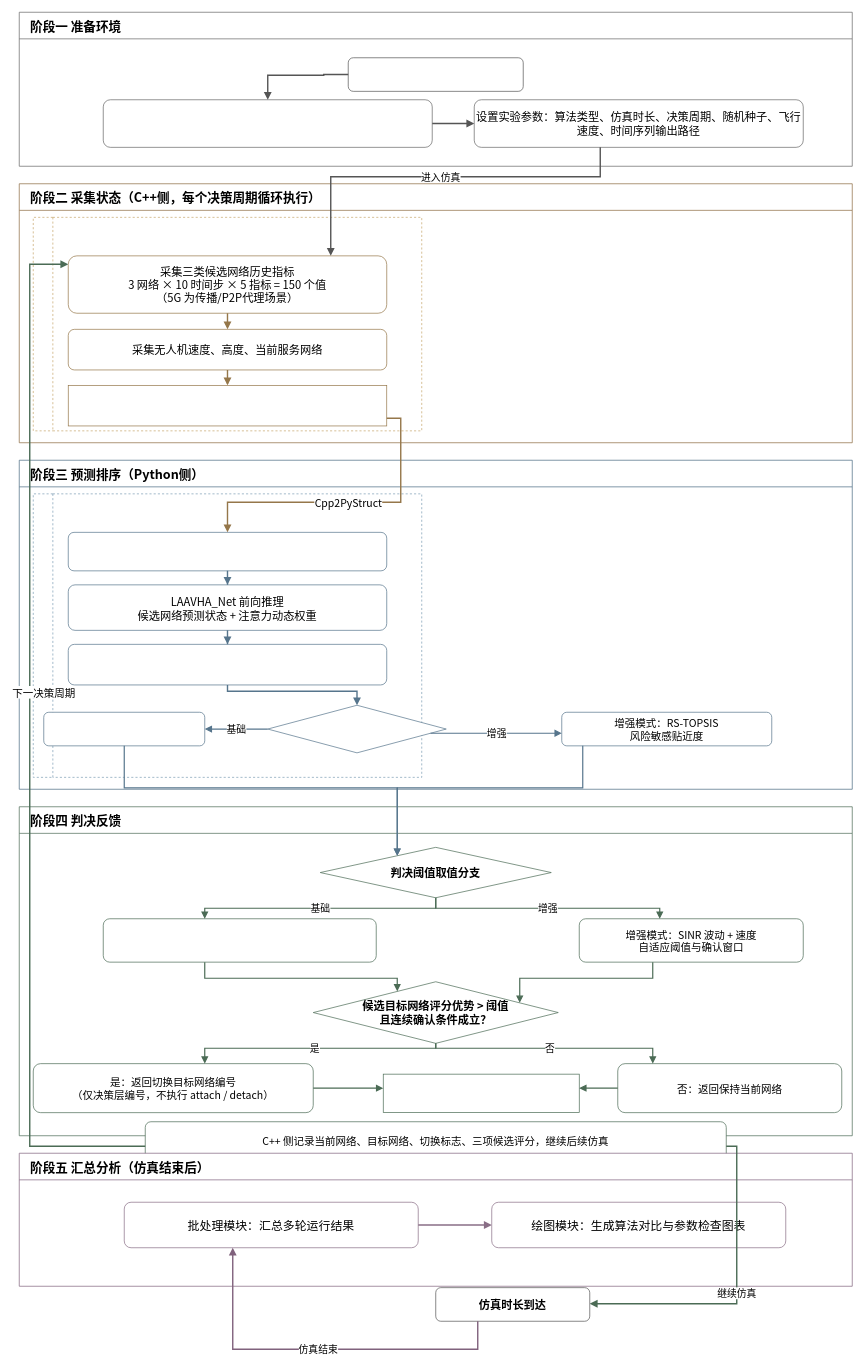
The diagram is 865 pixels wide and 1368 high, and some of its shapes have lost their labels. Here are the shapes that lost their labels. From the top down, the centre of each, then its label:
At pixel 435 74: "开始".
At pixel 267 123: "检查 Python 模块、训练权重、NS-3 工作区、已生成 pybind11 绑定模块".
At pixel 227 405: "写入 Cpp2PyStruct 并发送给 Python 侧".
At pixel 227 551: "将输入重塑为状态窗口".
At pixel 227 664: "预测与当前状态融合 成本型指标转换".
At pixel 124 729: "基础模式：TOPSIS".
At pixel 356 729: "排序分支".
At pixel 239 940: "基础模式：固定双重滞后 评分阈值 + 固定确认窗口".
At pixel 481 1093: "写入 Py2CppStruct，返回 C++ 侧".
